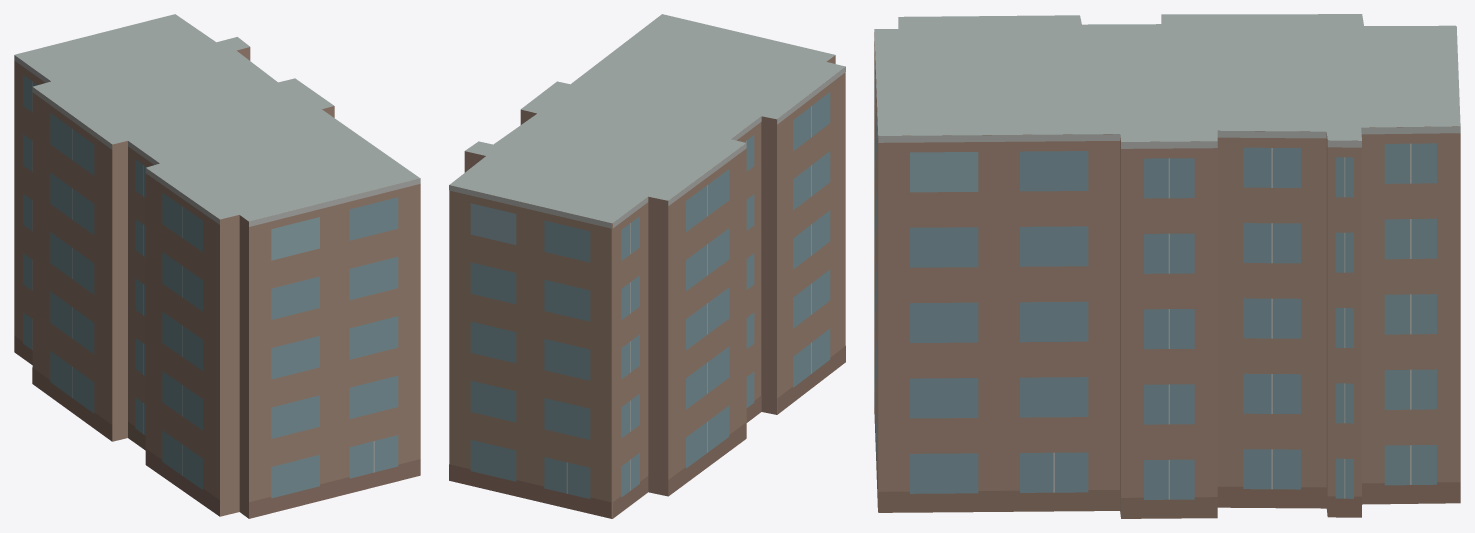
The model's file is survey-upis-32611586.glb.
3 views of the same model, side by side, from view 1: azimuth 30°, elevation 25°; view 2: azimuth 150°, elevation 25°; view 3: azimuth 270°, elevation 25° (orthographic). The views are drawn at different scales.
Visible parts, largest first — view 1: survey-upis-32611586.tmp; view 2: survey-upis-32611586.tmp; view 3: survey-upis-32611586.tmp.
Part boxes in pixels (box(x1,y1,x2,y2)): survey-upis-32611586.tmp: box(14, 14, 420, 518); survey-upis-32611586.tmp: box(449, 14, 845, 518); survey-upis-32611586.tmp: box(874, 14, 1460, 518).
Bounding box in the file's own units: 9.74 × 13.35 × 18.83.
